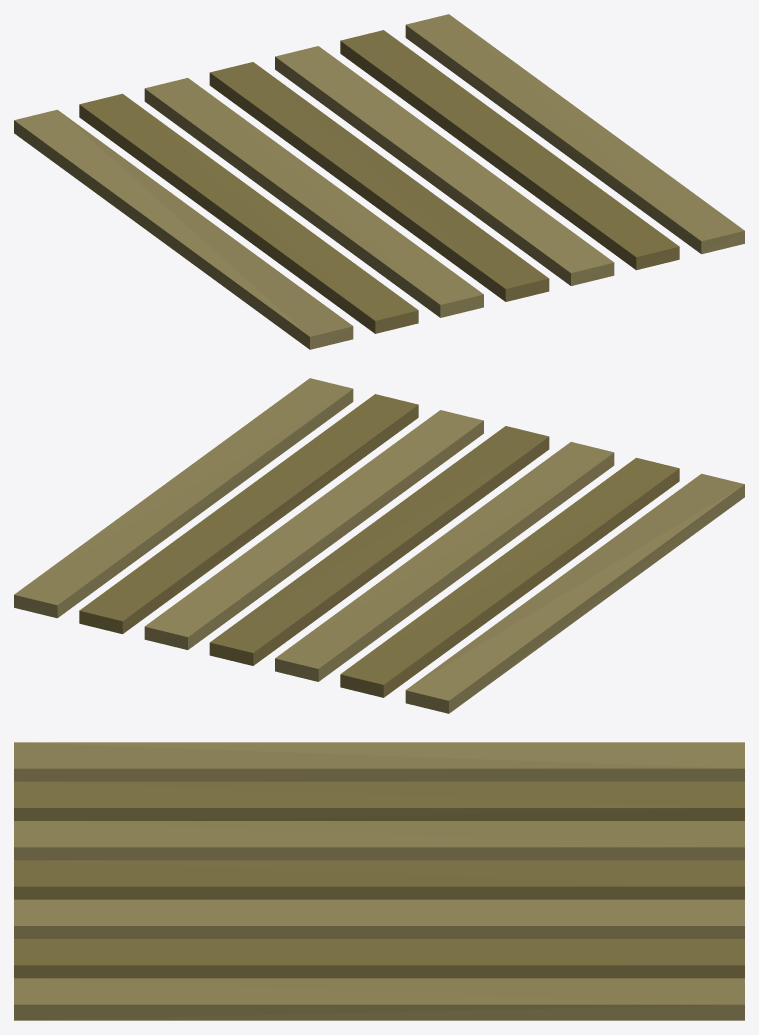
The model's file is farmland-far.glb.
3 views of the same model, one above another, from view 1: azimuth 30°, elevation 25°; view 2: azimuth 150°, elevation 25°; view 3: azimuth 270°, elevation 25° (orthographic). The views are drawn at different scales.
Visible parts, largest first — view 1: world-scenery/farmland-far; view 2: world-scenery/farmland-far; view 3: world-scenery/farmland-far.
Part boxes in pixels (x1,y1,x2,y2): world-scenery/farmland-far: (14, 14, 744, 349); world-scenery/farmland-far: (14, 378, 744, 713); world-scenery/farmland-far: (14, 742, 744, 1020).
Size of the model in its own units: 2.8 by 0.08 by 3.3.
